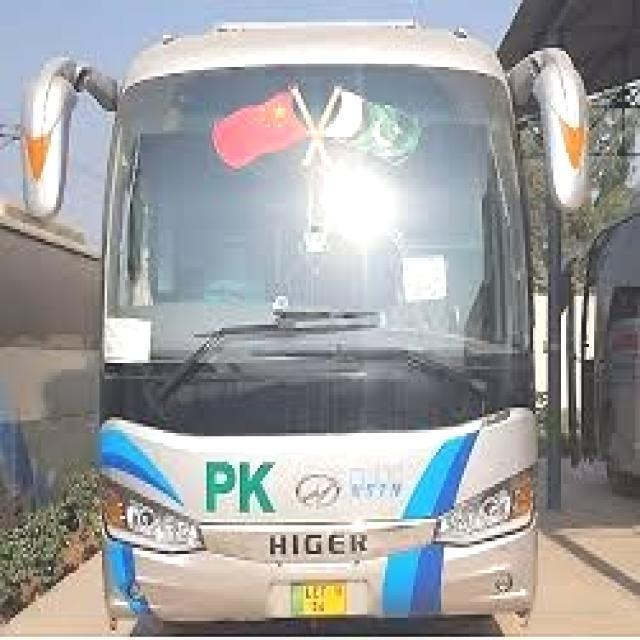Bus: (18, 3, 623, 640)
